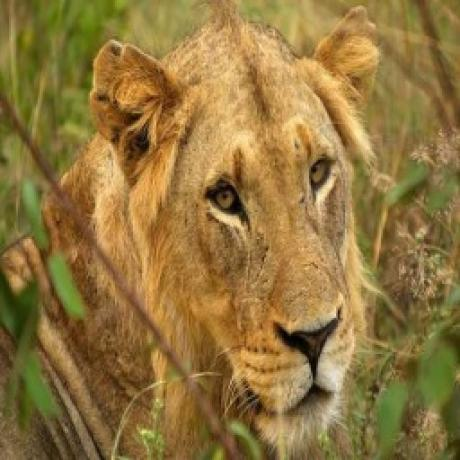Lion: (0, 0, 385, 460)
